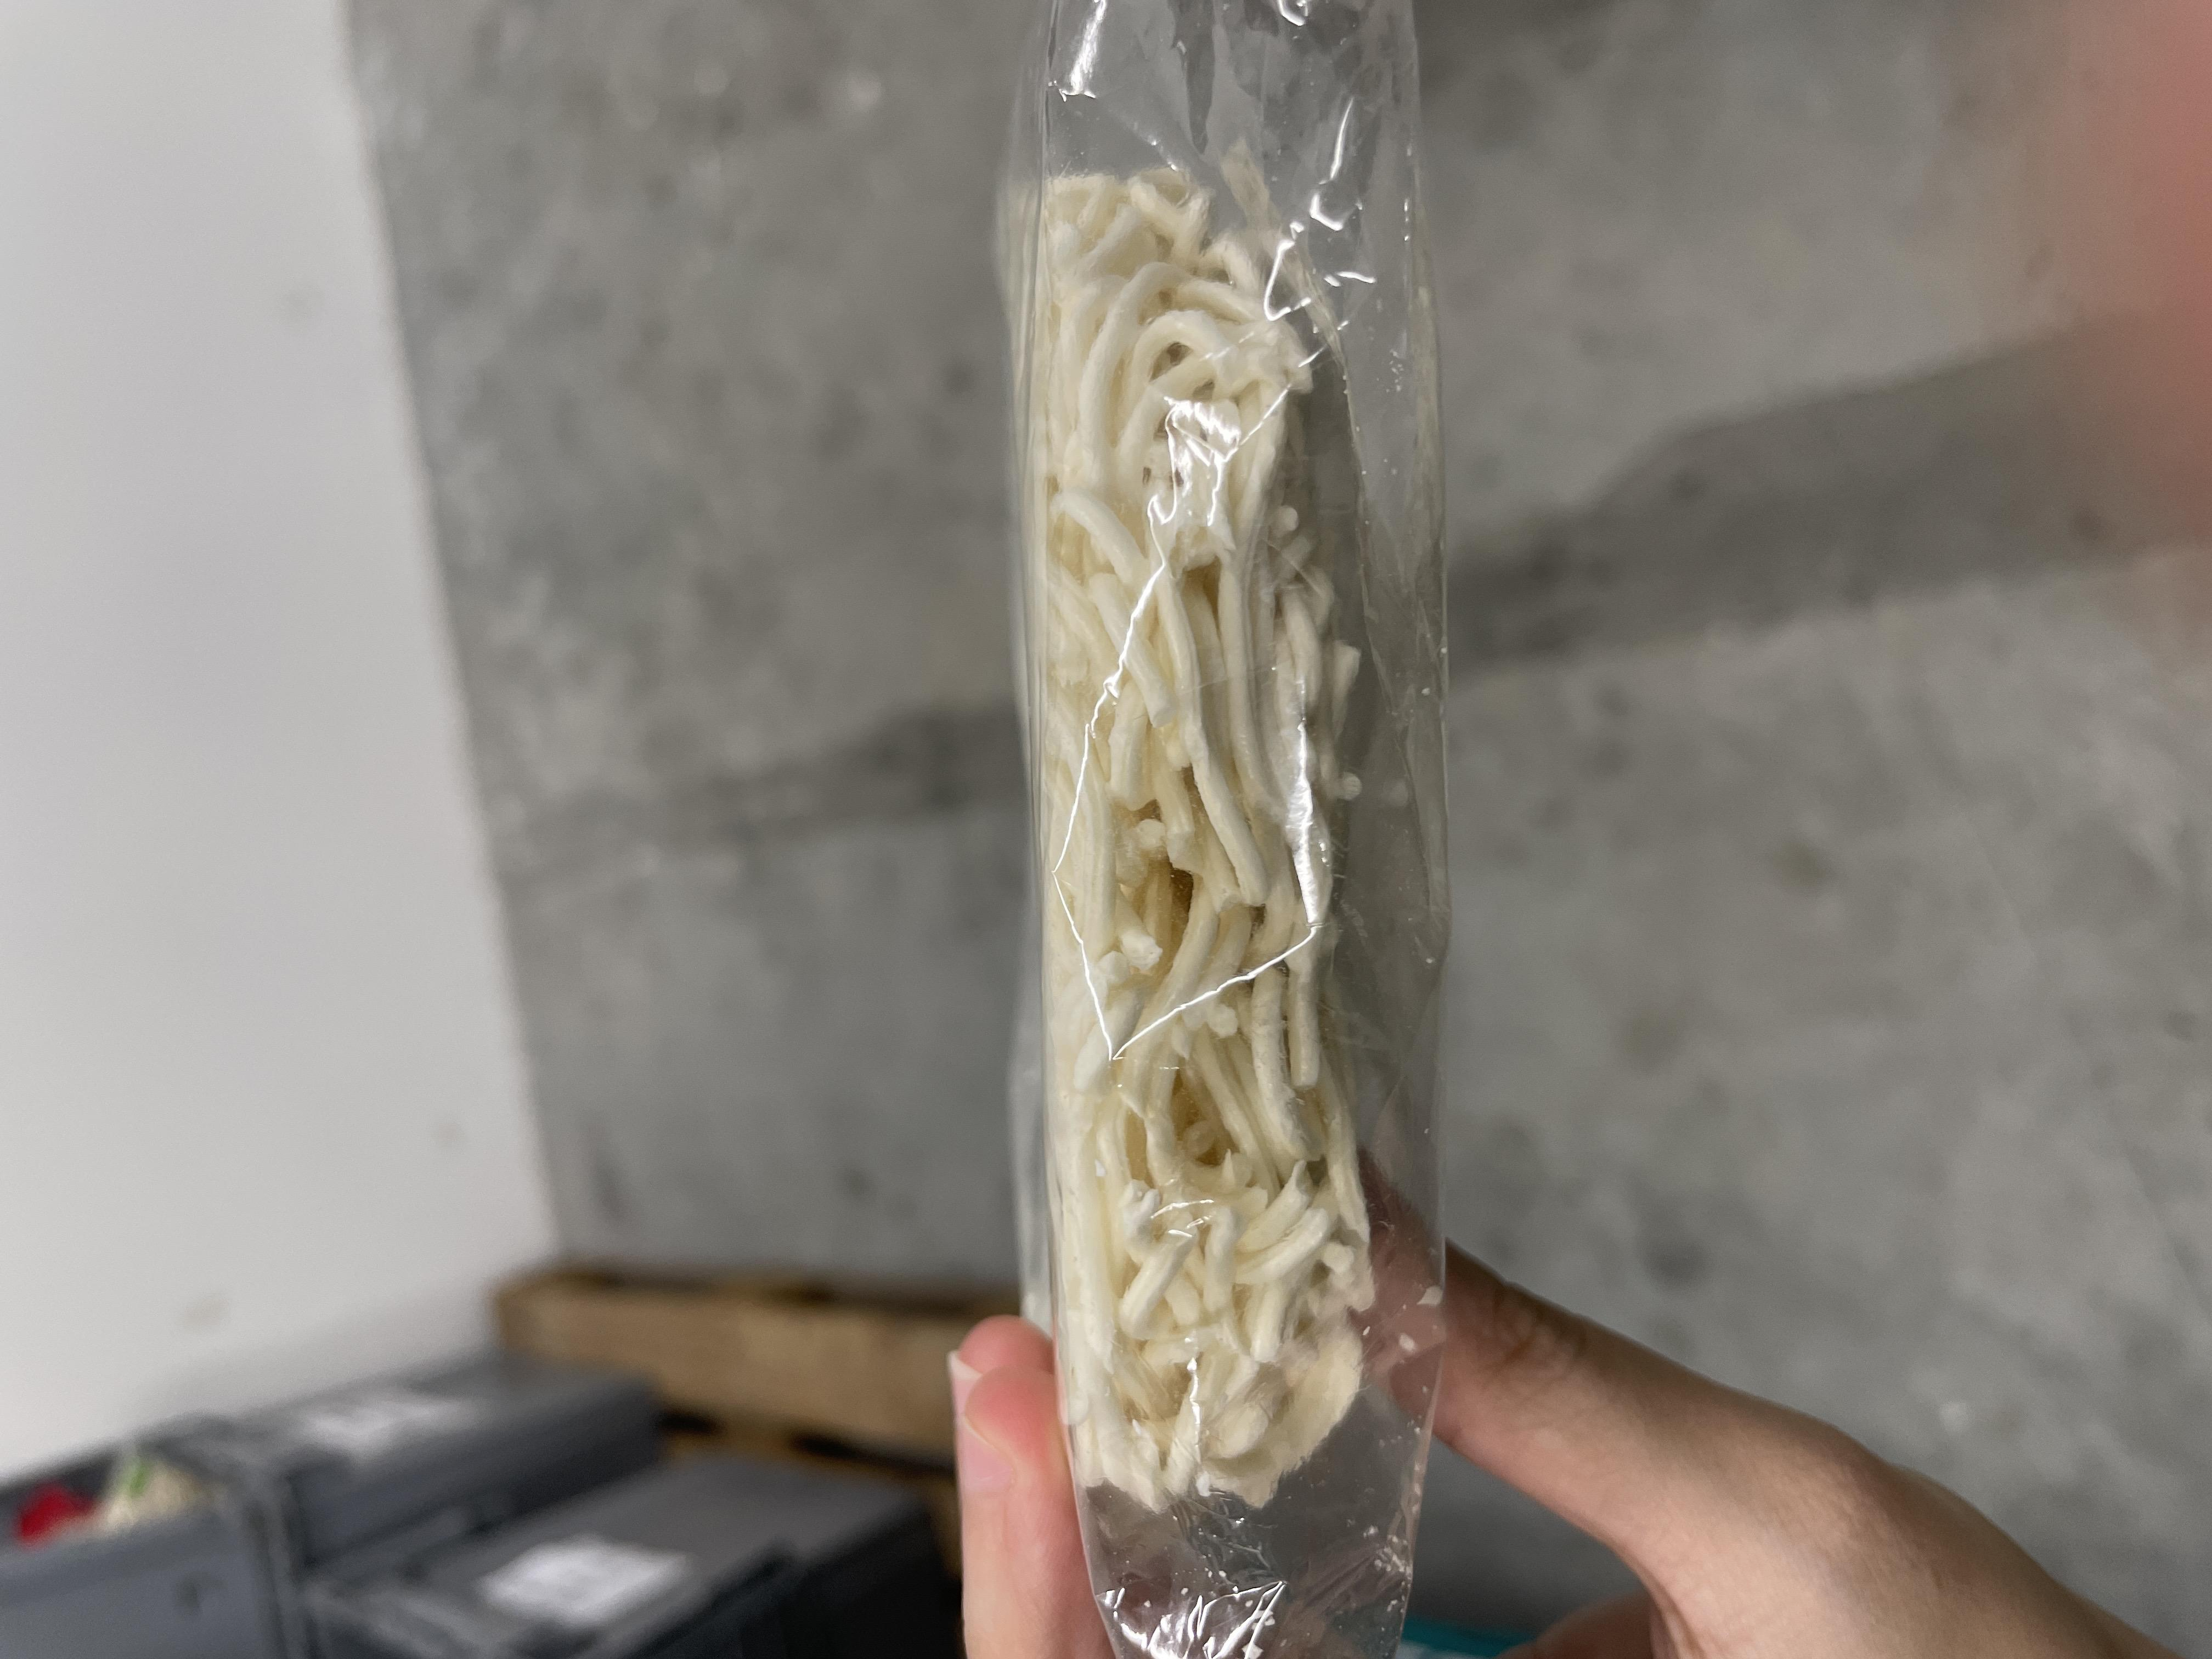object_name: (96, 1072, 1599, 1371)
